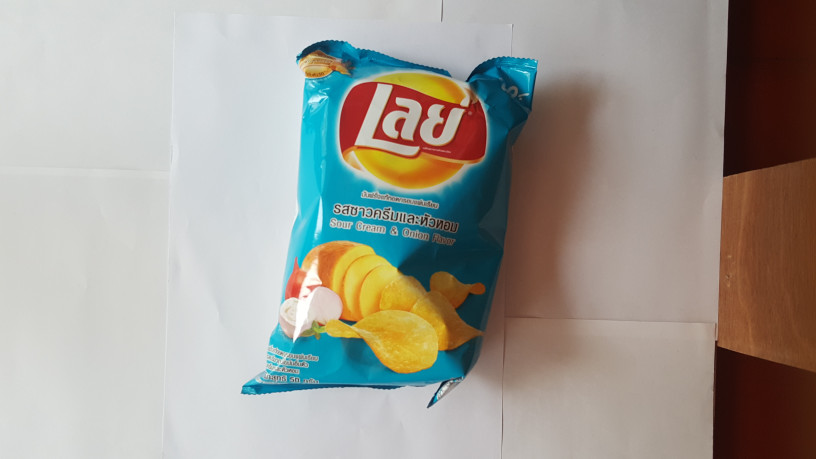lays-onion: (251, 27, 547, 409)
